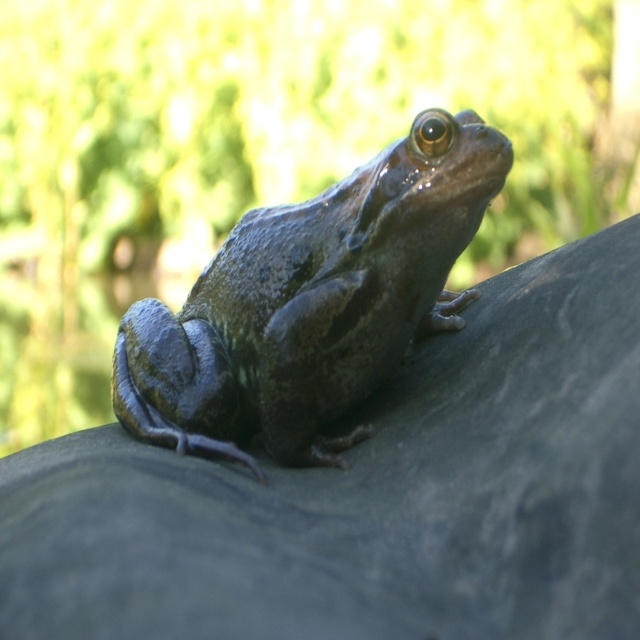Frog: (109, 107, 514, 487)
